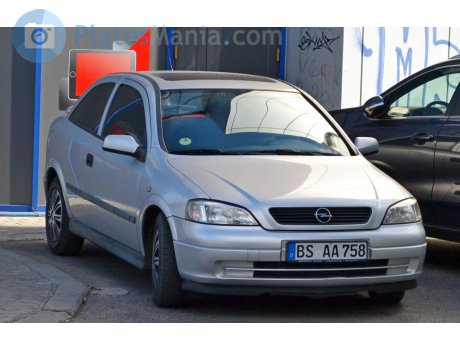License Plates: (294, 242, 361, 255)
